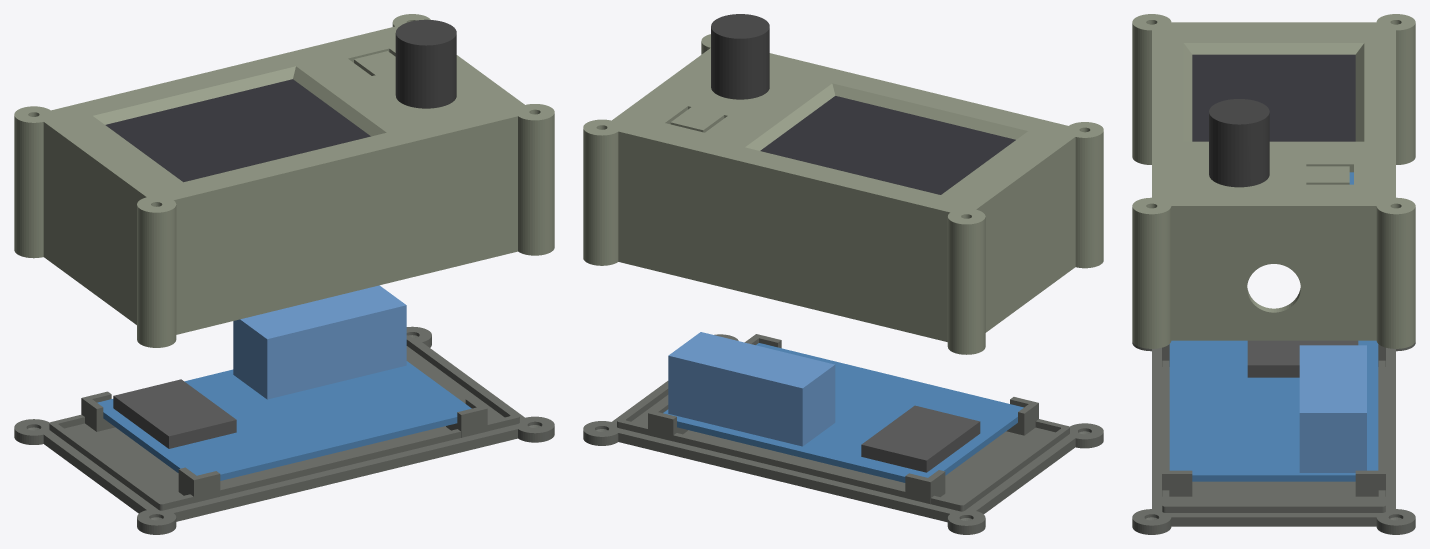
Rendered from knob24.glb.
3 views of the same model, side by side, from view 1: azimuth 30°, elevation 25°; view 2: azimuth 150°, elevation 25°; view 3: azimuth 270°, elevation 25° (orthographic). The views are drawn at different scales.
Parts seen in each view (by area): view 1: body, lid, relay_pcb, tft, relay1, relay2, esp32, knob; view 2: body, lid, tft, relay_pcb, relay1, relay2, esp32, knob; view 3: body, relay_pcb, lid, tft, relay2, knob, relay1, esp32.
Part boxes in pixels (<box>): body: <box>14,14,554,347</box>; lid: <box>14,326,554,534</box>; relay_pcb: <box>97,361,471,480</box>; tft: <box>105,79,370,182</box>; relay1: <box>233,302,338,399</box>; relay2: <box>309,285,406,381</box>; esp32: <box>113,379,236,448</box>; knob: <box>395,19,456,108</box>; body: <box>583,34,1103,354</box>; lid: <box>583,334,1103,534</box>; tft: <box>760,96,1015,194</box>; relay_pcb: <box>663,343,1023,482</box>; relay1: <box>733,349,835,446</box>; relay2: <box>668,332,769,429</box>; esp32: <box>861,405,980,472</box>; knob: <box>711,14,769,99</box>; body: <box>1132,14,1415,348</box>; relay_pcb: <box>1169,340,1378,481</box>; lid: <box>1132,342,1415,534</box>; tft: <box>1192,54,1355,141</box>; relay2: <box>1299,380,1366,472</box>; knob: <box>1209,99,1269,187</box>; relay1: <box>1299,345,1366,379</box>; esp32: <box>1247,340,1358,377</box>.
Size of the model in its own units: 109 by 97.7 by 65.4.
